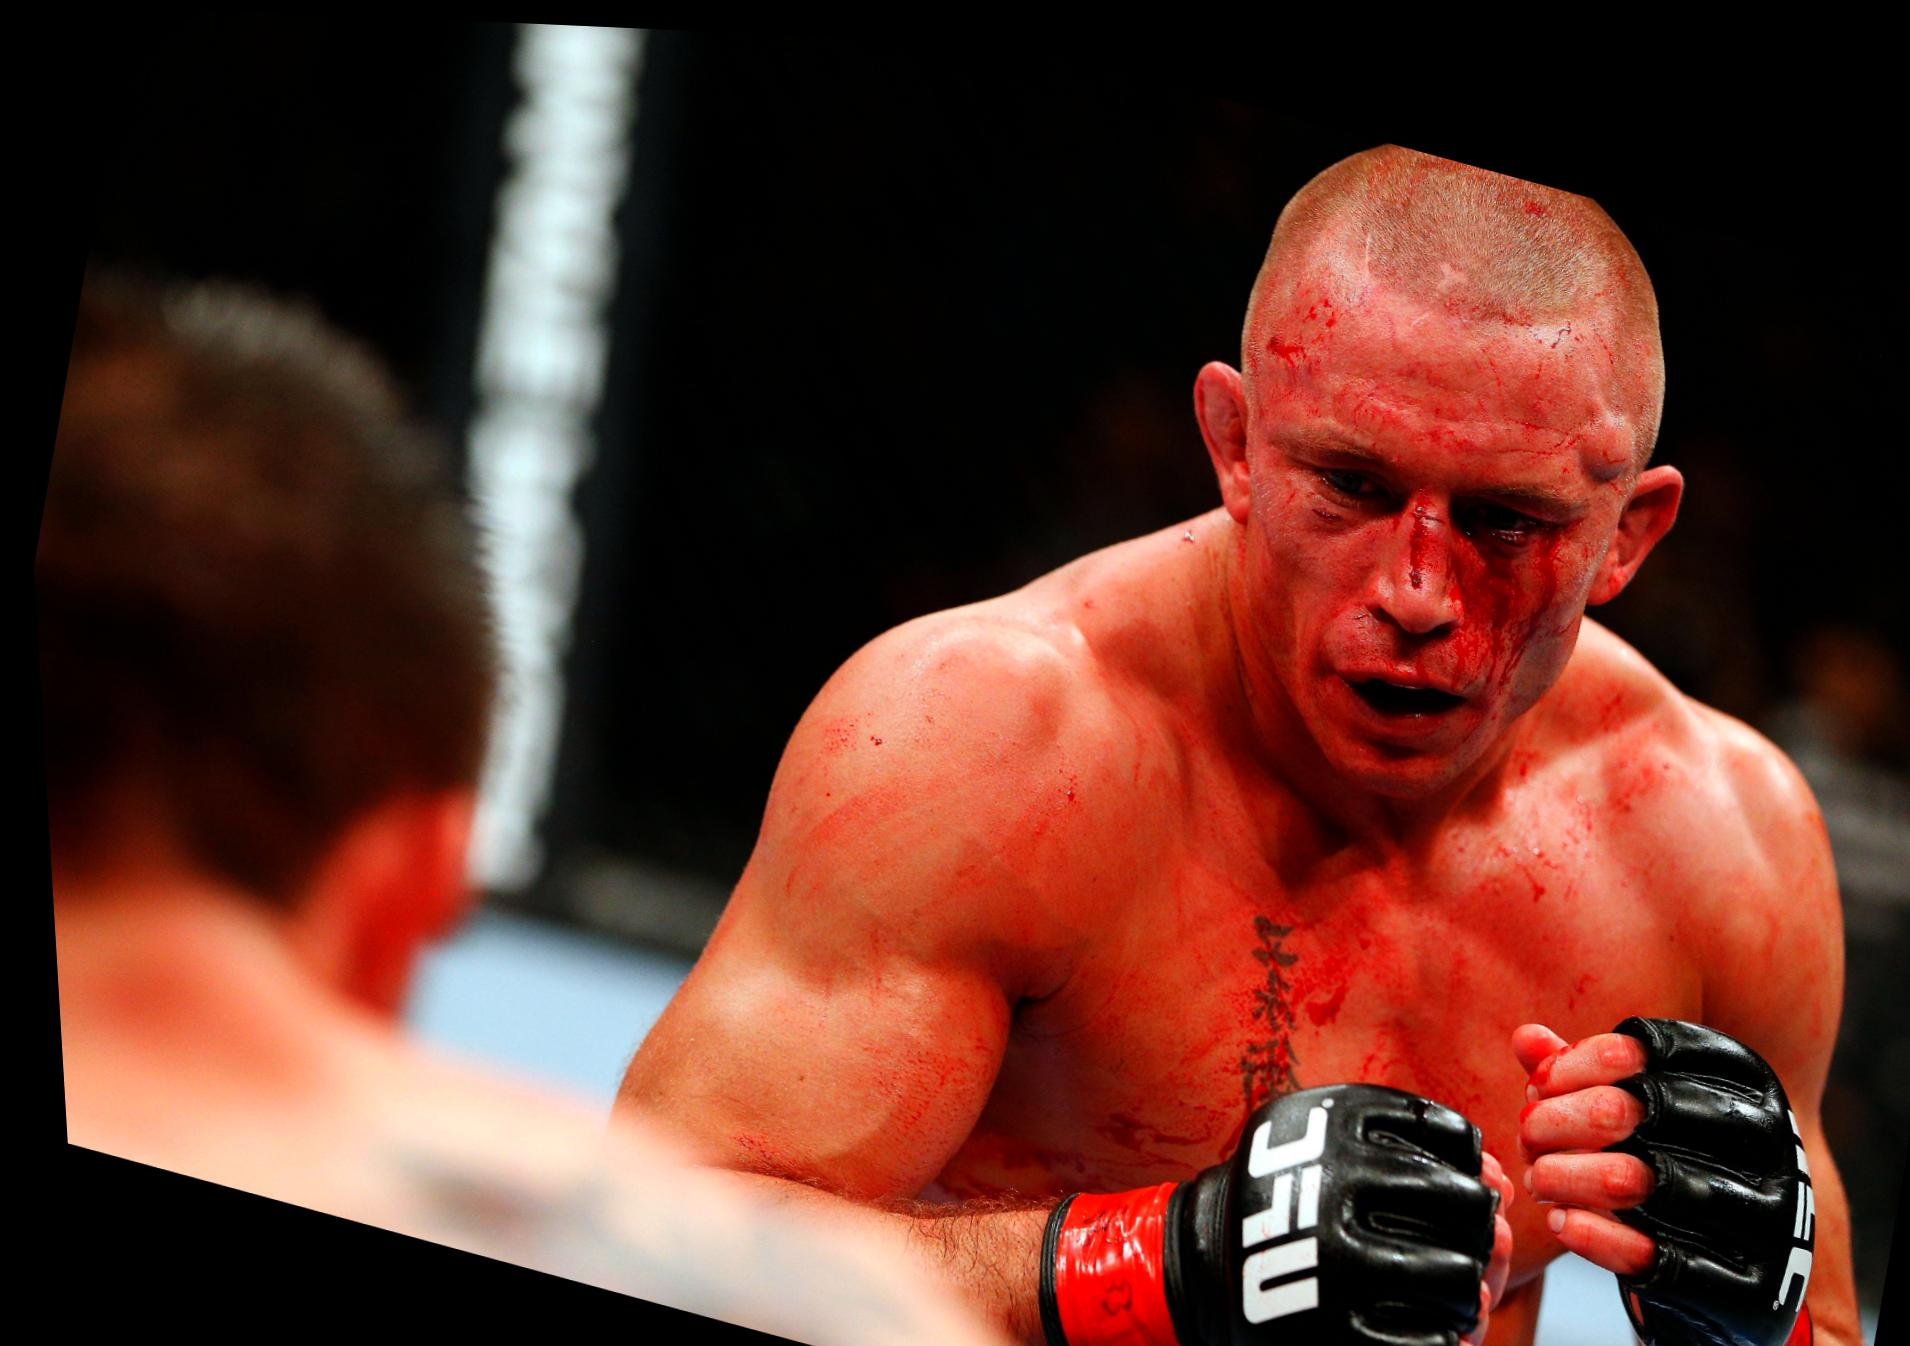Fire: (887, 648, 1668, 1196), (1192, 214, 1675, 833)
